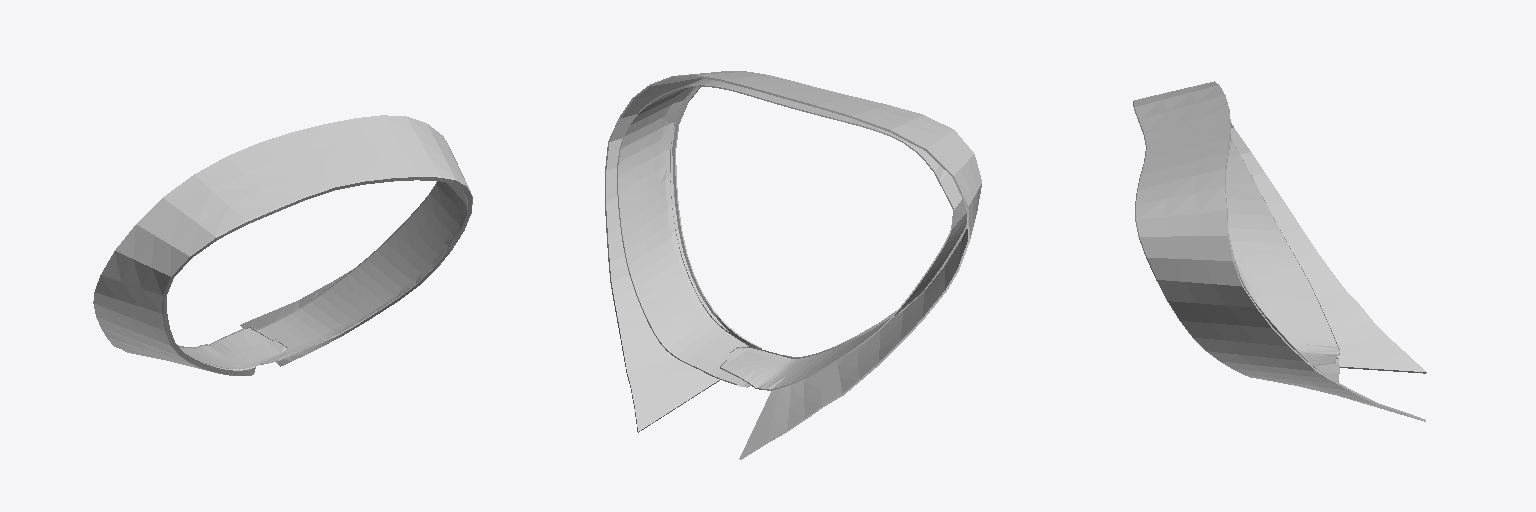
The model's file is low_regular.obj.
3 renders of one model, left to right at view 1: azimuth 30°, elevation 25°; view 2: azimuth 150°, elevation 25°; view 3: azimuth 270°, elevation 25°, orthographic.
Visible parts, largest first — view 1: 2_low_regular, inner_collar_out; view 2: 2_low_regular, inner_collar_out; view 3: 2_low_regular, inner_collar_out.
Part boxes in pixels (x1,y1,x2,y2): 2_low_regular: (93, 115, 472, 375); inner_collar_out: (178, 181, 466, 369); 2_low_regular: (605, 71, 981, 459); inner_collar_out: (617, 79, 966, 390); 2_low_regular: (1133, 81, 1426, 421); inner_collar_out: (1225, 131, 1339, 381).
Bounding box in the file's own units: 17.81 × 13.32 × 12.68.